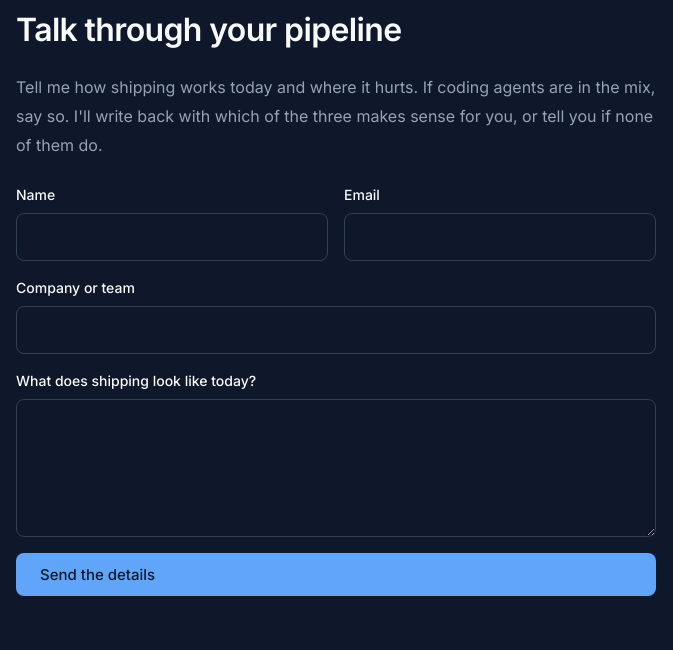
Test case: Contact lead form › shows an upstream error
Step 1. Type "Ada Lovelace" into the field labelled "Name" → (172, 237), box [16,213,328,261]
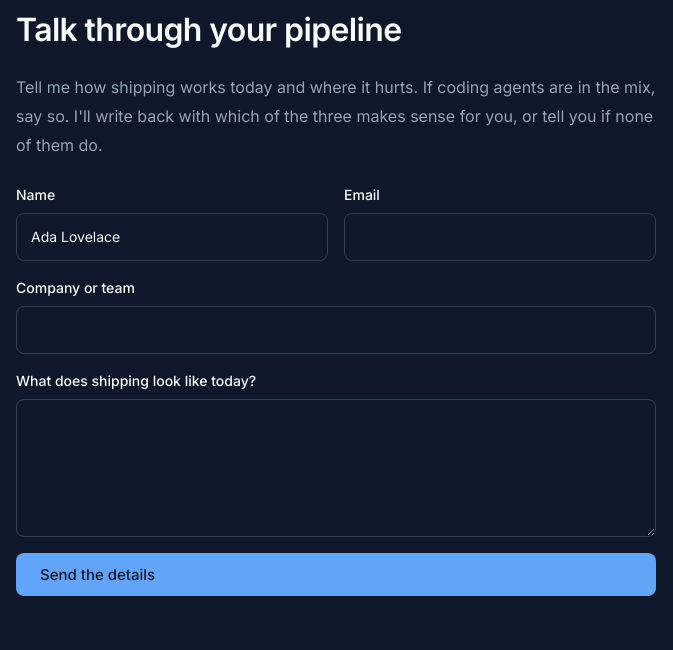
Step 2. Type "ada@example.com" into the field labelled "Email" → (500, 237), box [344,213,656,261]
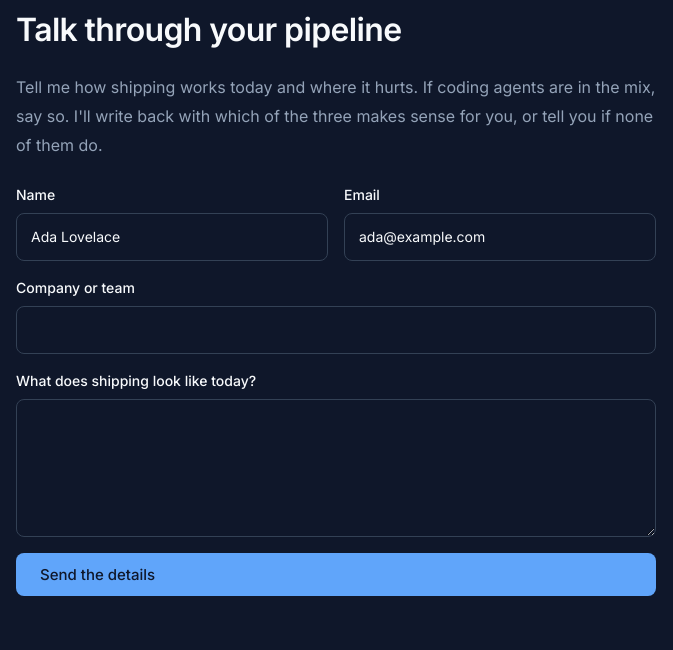
Step 3. Type "We need a safer release path." into the text box labelled "What does shipping look like today?" → (336, 468), box [16,399,656,537]
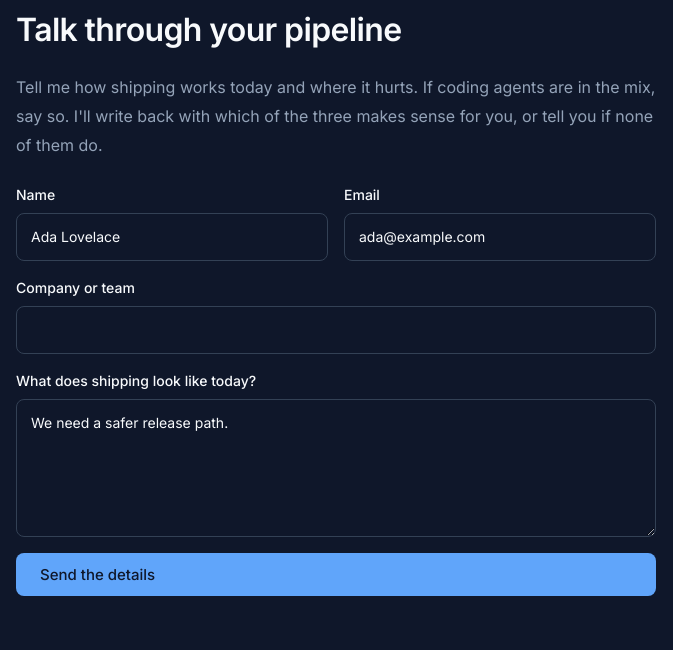
Step 4. Click the button "Send the details" → (98, 574), box [16,553,656,596]
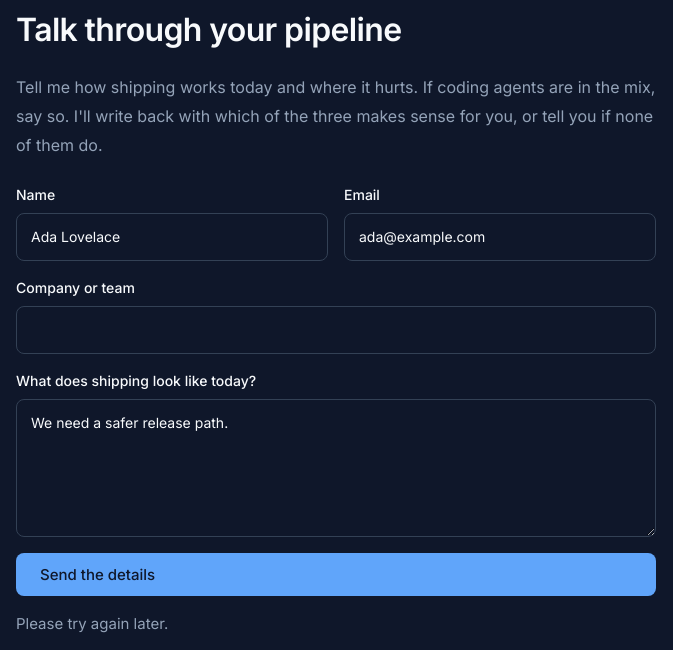
Expected: the message reads "Please try again later.", [16,614,168,633]
